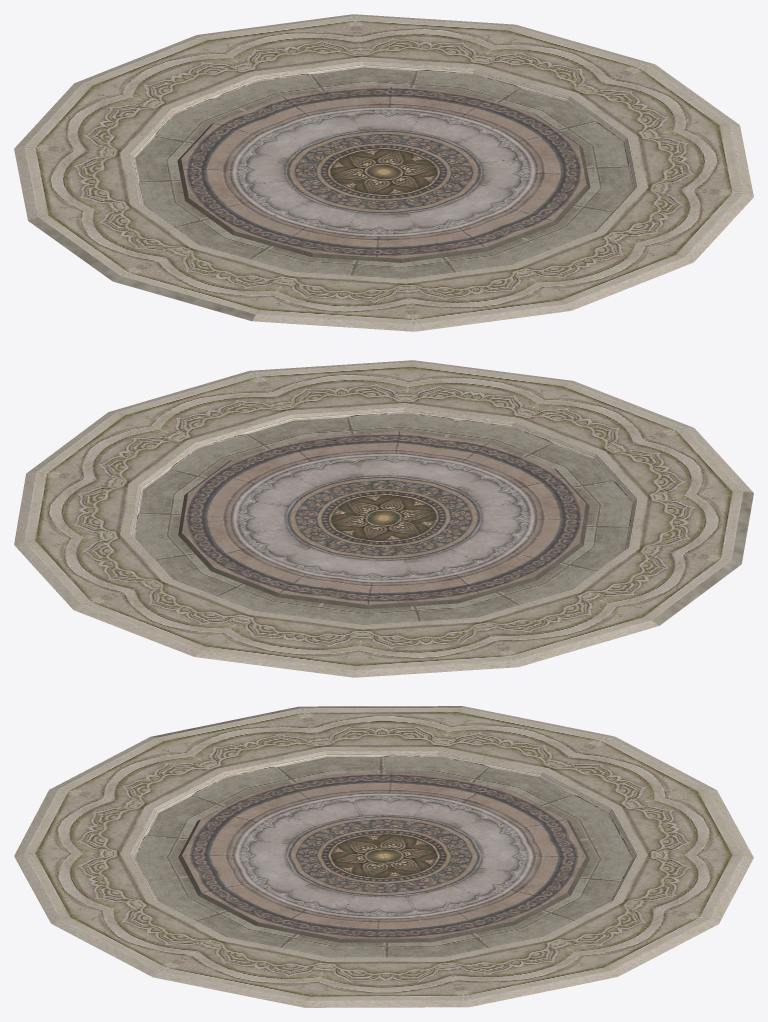
File: s_battle_05_floor1.FBX
3 views of the same model, one above another, from view 1: azimuth 30°, elevation 25°; view 2: azimuth 150°, elevation 25°; view 3: azimuth 270°, elevation 25° (orthographic).
Parts seen in each view (by area): view 1: floor1; view 2: floor1; view 3: floor1.
Boxes of the visible parts, <box> form: floor1: <box>14,14,753,331</box>; floor1: <box>14,360,753,677</box>; floor1: <box>14,706,753,1007</box>.
Size of the model in its own units: 36.44 by 0.2611 by 37.68.
